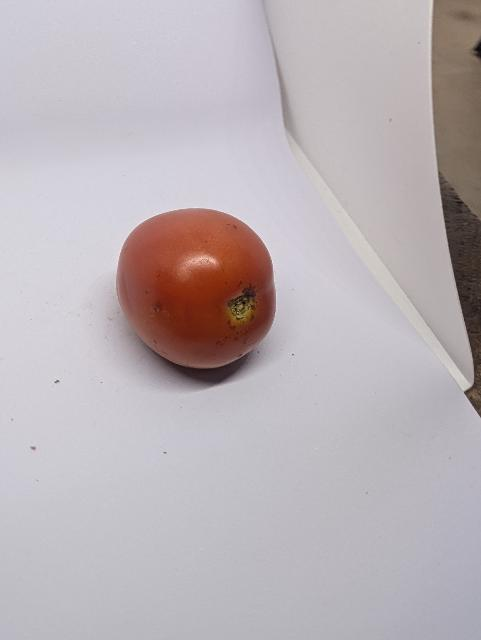red: (111, 199, 285, 379)
